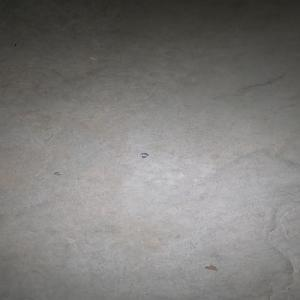Nut: (139, 153, 149, 158)
